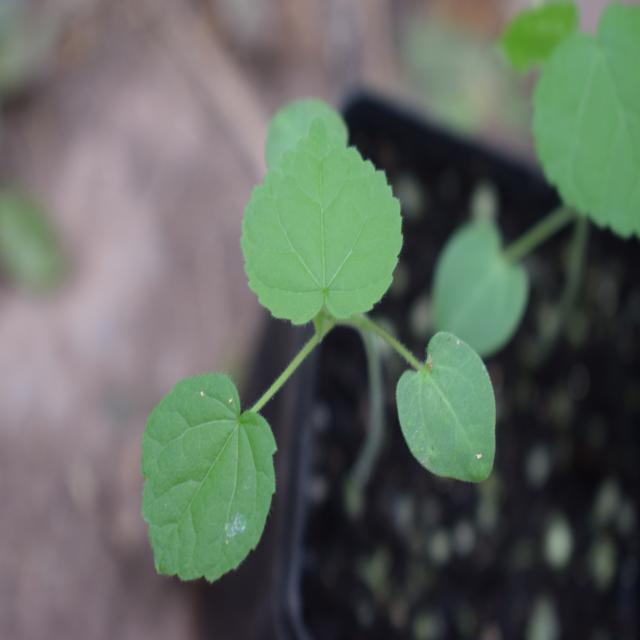abutilon theophrasti: (121, 96, 525, 604)
